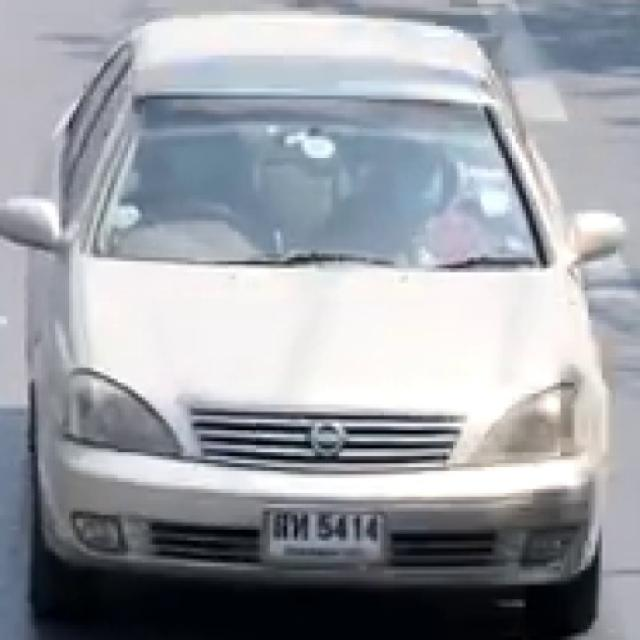plate: (270, 508, 384, 568)
